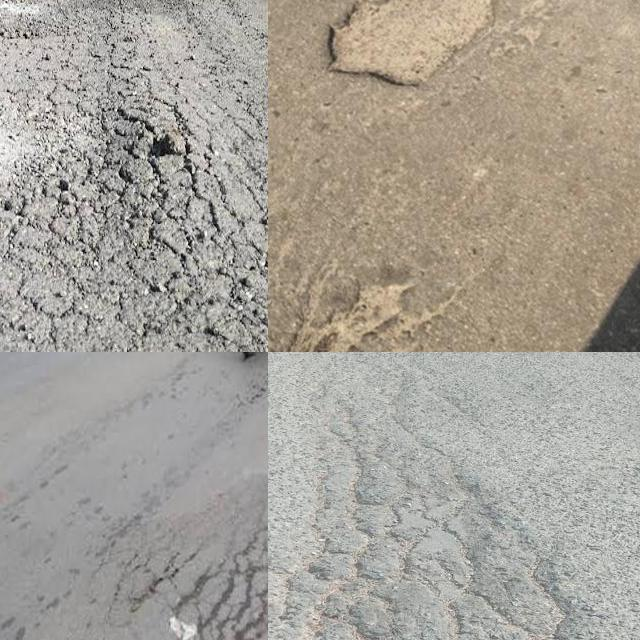Lubang: (322, 0, 501, 86)
Retak Buaya: (268, 395, 608, 640), (0, 77, 268, 352)
